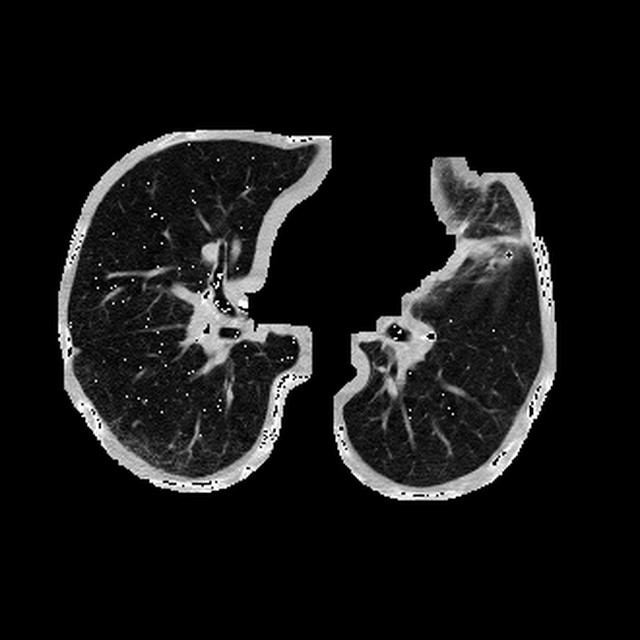PN: (504, 250, 512, 258)
